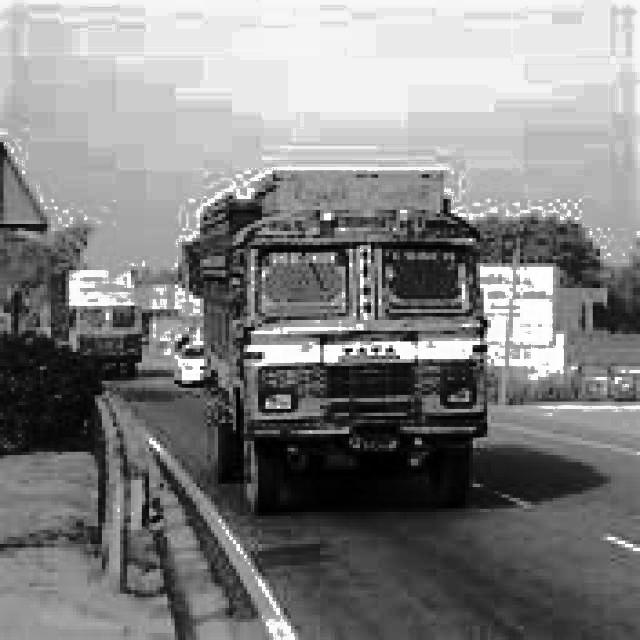HCV: (177, 156, 495, 545)
